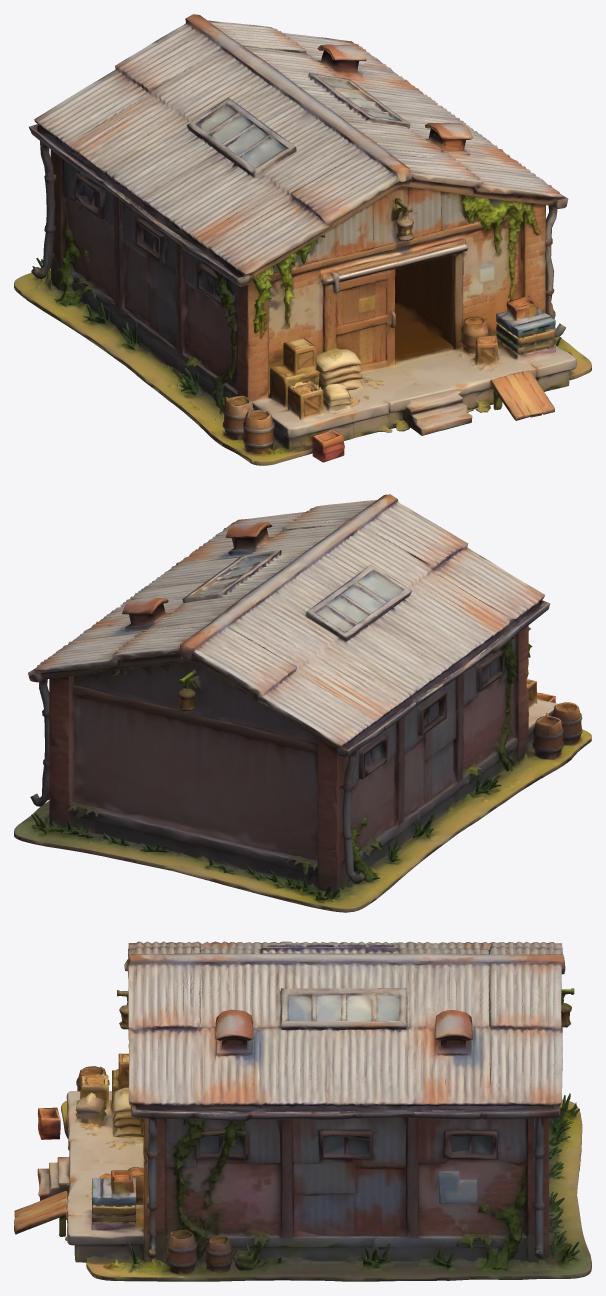
Rendered from gudang.glb.
3 views of the same model, one above another, from view 1: azimuth 30°, elevation 25°; view 2: azimuth 150°, elevation 25°; view 3: azimuth 270°, elevation 25° (orthographic). The views are drawn at different scales.
Visible parts, largest first — view 1: tripo_node_74c26977-c9b2-47f2-826b-dc76176c597b; view 2: tripo_node_74c26977-c9b2-47f2-826b-dc76176c597b; view 3: tripo_node_74c26977-c9b2-47f2-826b-dc76176c597b.
Part boxes in pixels (left/top/right/bottom): tripo_node_74c26977-c9b2-47f2-826b-dc76176c597b: left=14, top=14, right=591, bottom=465; tripo_node_74c26977-c9b2-47f2-826b-dc76176c597b: left=14, top=494, right=591, bottom=912; tripo_node_74c26977-c9b2-47f2-826b-dc76176c597b: left=14, top=941, right=591, bottom=1281.
Size of the model in its own units: 0.7416 by 0.4549 by 1.
1 material, 1 textured.
